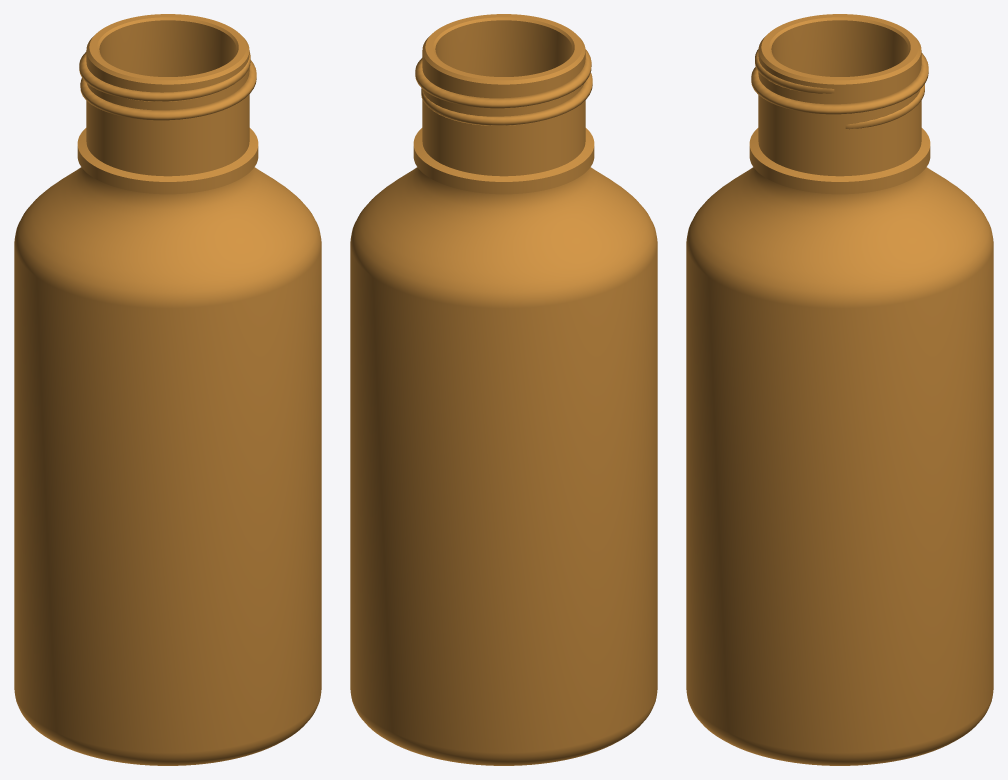
The model's file is neck_PP28.glb.
3 views of the same model, side by side, from view 1: azimuth 30°, elevation 25°; view 2: azimuth 150°, elevation 25°; view 3: azimuth 270°, elevation 25° (orthographic).
Parts seen in each view (by area): view 1: Bottle_100ml; view 2: Bottle_100ml; view 3: Bottle_100ml.
Part boxes in pixels (x1,y1,x2,y2): Bottle_100ml: (14,14,321,765); Bottle_100ml: (350,14,657,765); Bottle_100ml: (686,14,993,765).
Bounding box in the file's own units: 0.0474 × 0.1126 × 0.0474.
